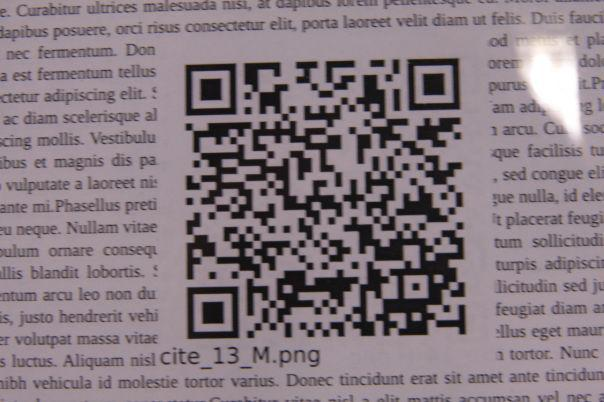Finder pattern: (180, 59, 242, 120), (403, 54, 464, 115), (183, 283, 245, 341)
